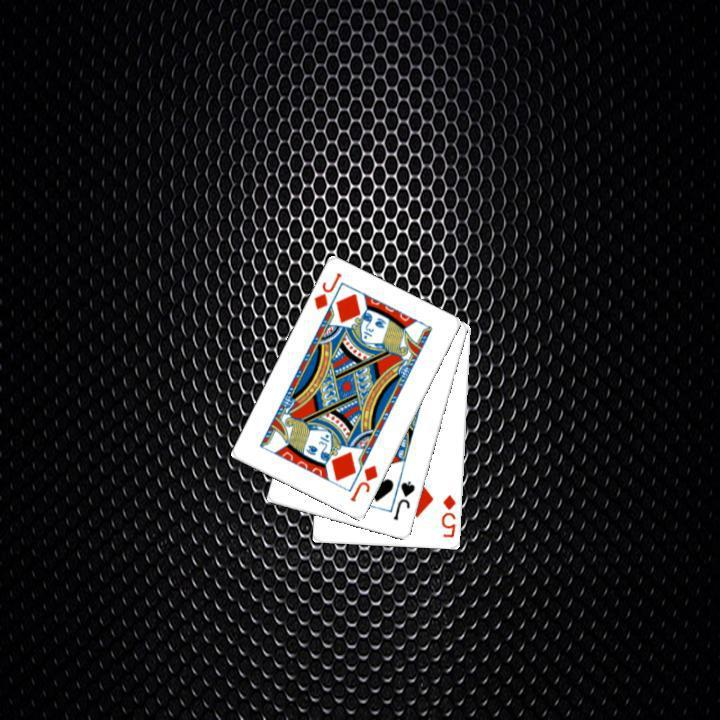5: (437, 491, 458, 540)
J: (309, 268, 344, 312), (346, 461, 380, 504), (389, 477, 417, 522)
